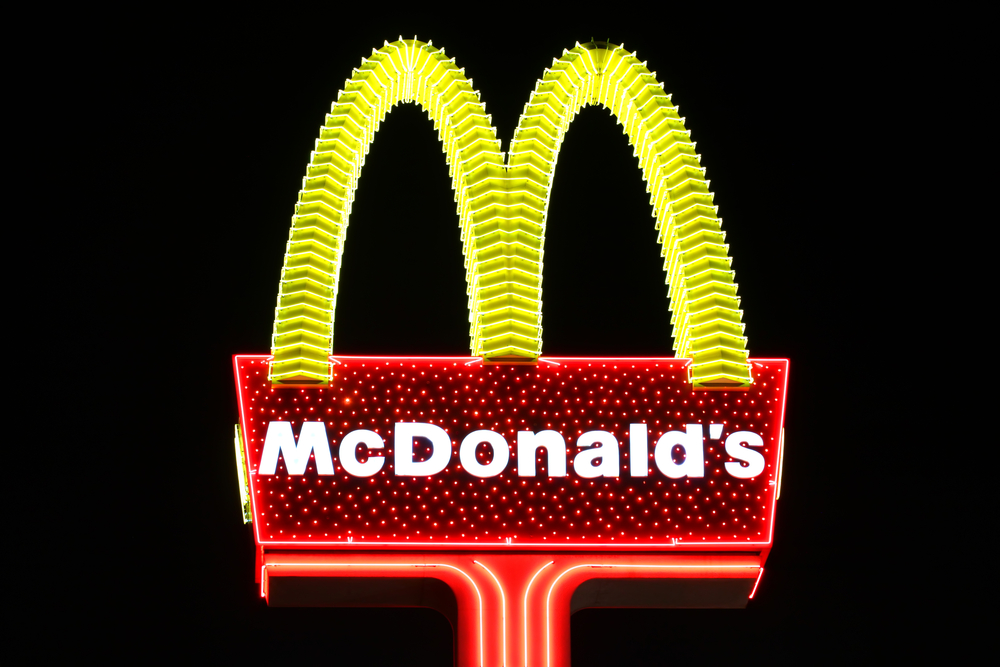mcdonalds: (261, 33, 755, 388)
